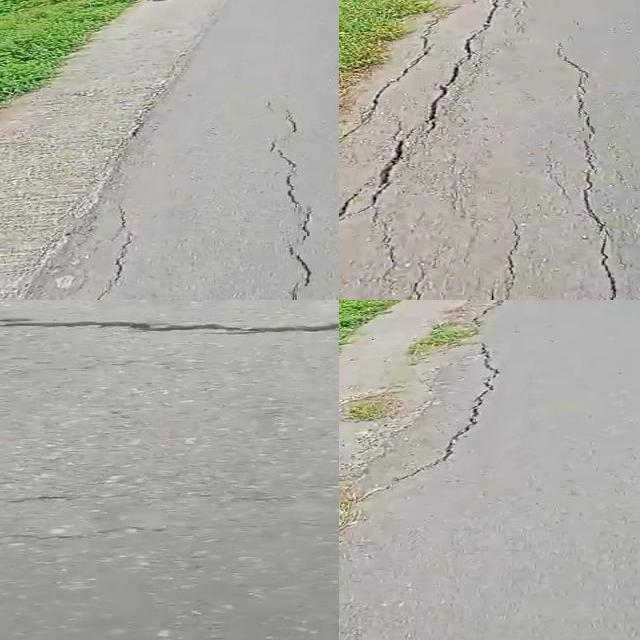Melintang: (0, 303, 339, 348)
Memanjang: (339, 0, 508, 240), (361, 300, 523, 499), (556, 51, 633, 300), (262, 105, 324, 300), (475, 218, 539, 300)
